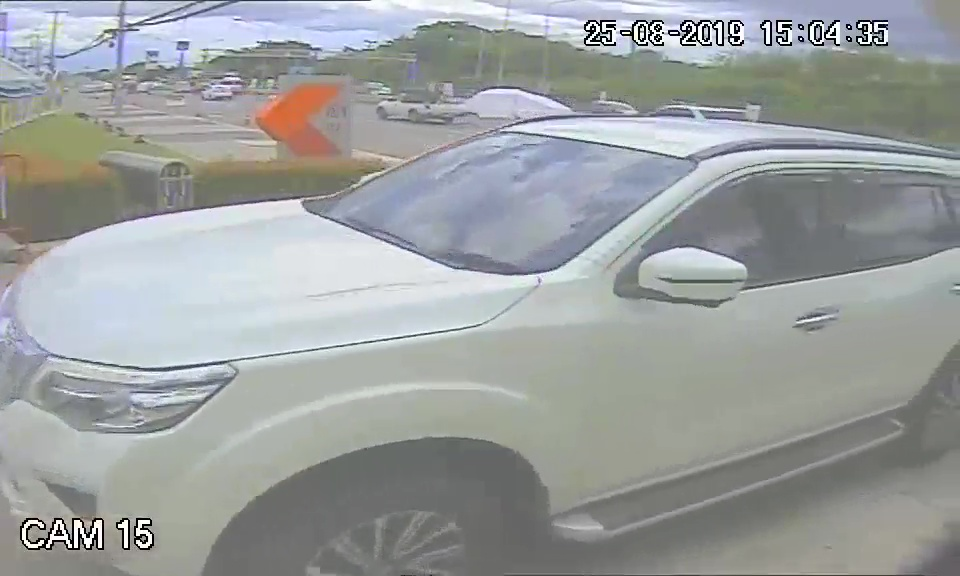pickup: (15, 110, 940, 504)
